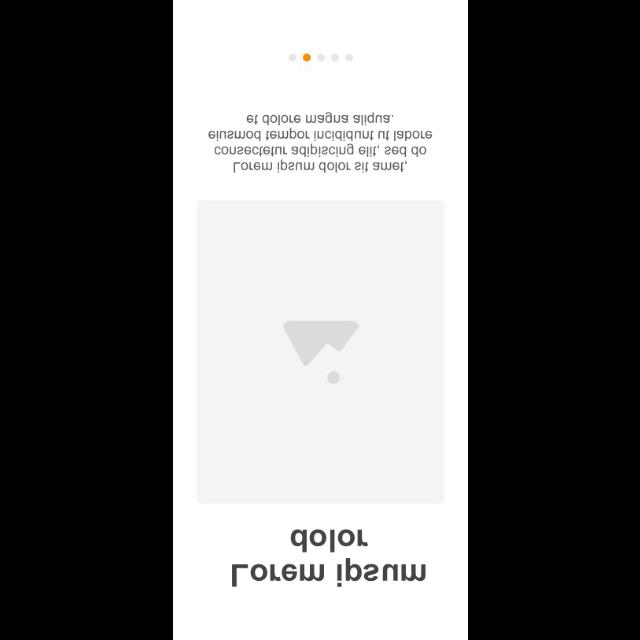image: (196, 200, 444, 504)
pageindicator: (288, 54, 354, 62)
text: (208, 111, 432, 173), (230, 528, 426, 588)
